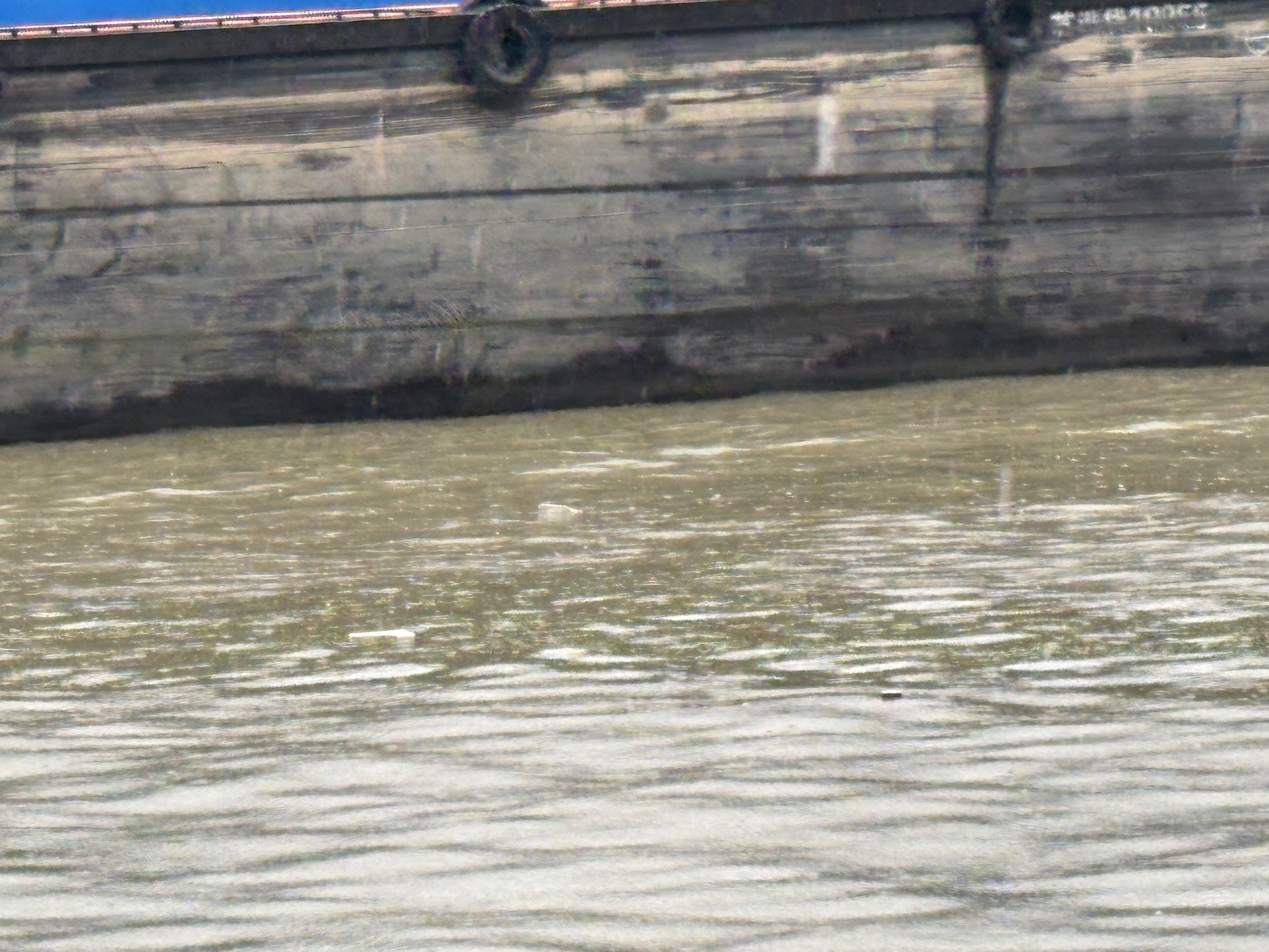Plastic wastes: (347, 627, 418, 644), (535, 498, 581, 515), (875, 685, 902, 702)
